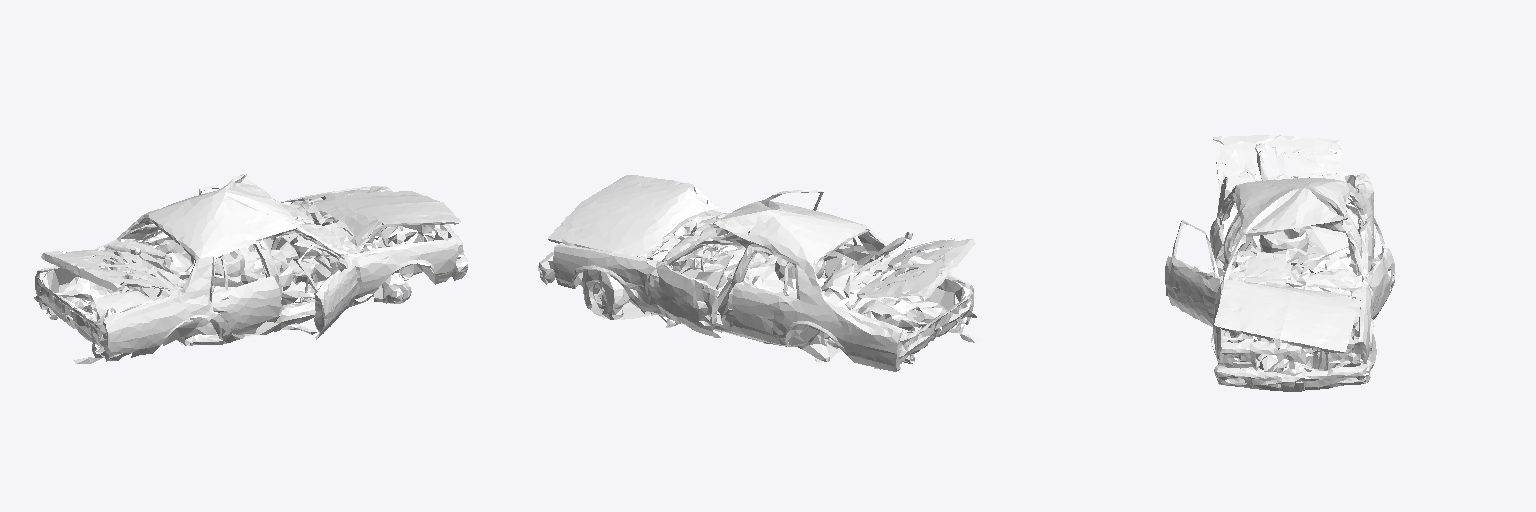
File: CarScan01.obj
The picture shows the model from 3 angles: view 1: azimuth 30°, elevation 25°; view 2: azimuth 150°, elevation 25°; view 3: azimuth 270°, elevation 25°; orthographic projection.
Visible parts, largest first — view 1: car03; view 2: car03; view 3: car03.
Boxes of the visible parts, box(x1,y1,x2,y2) form: car03: box(34, 174, 467, 363); car03: box(538, 175, 979, 371); car03: box(1165, 135, 1394, 391).
Bounding box in the file's own units: 28.51 × 8.41 × 14.49.